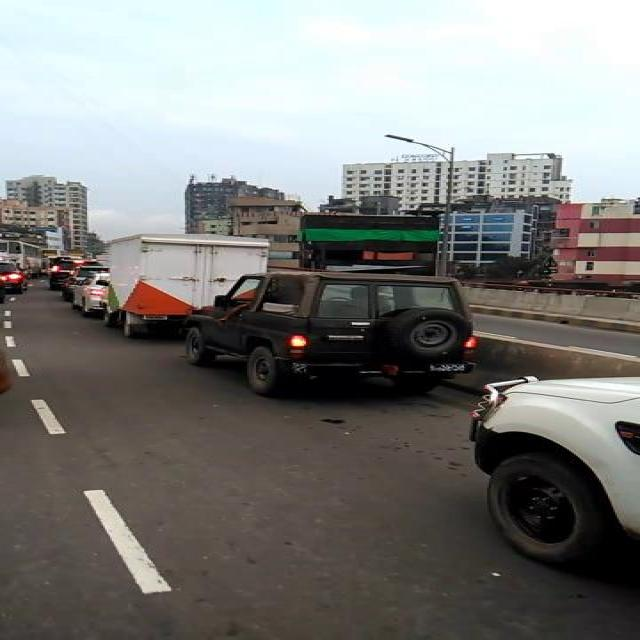11: (95, 232, 261, 342)
Bus: (174, 264, 476, 404)
